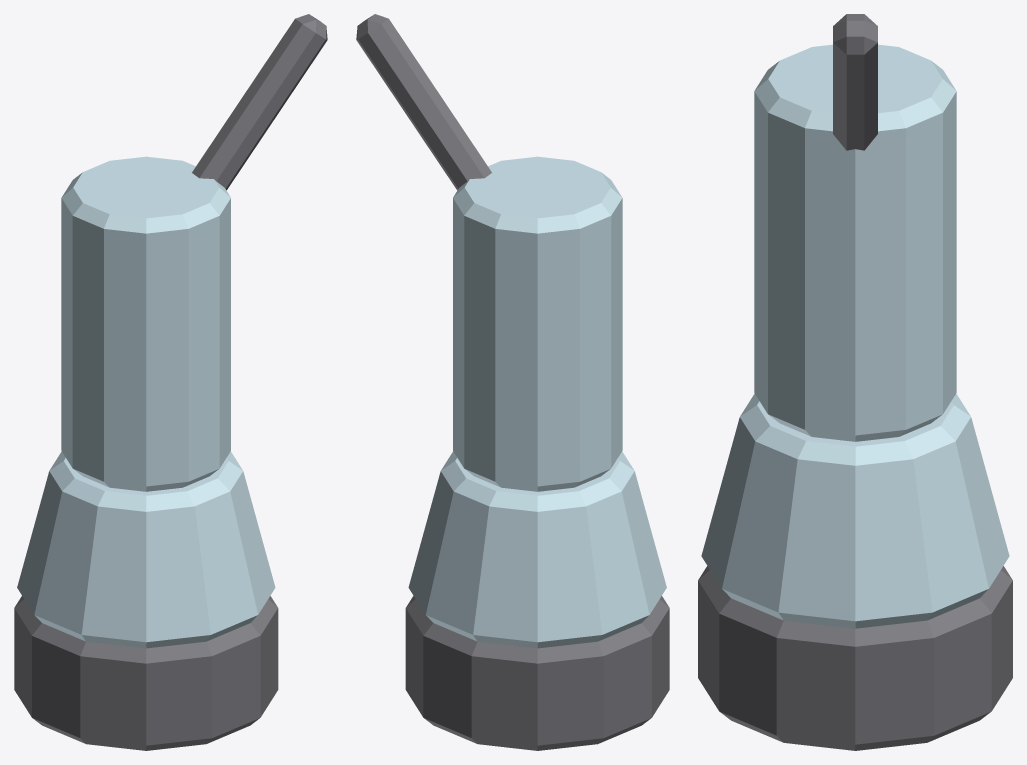
The model's file is SM_Oil_Lamp.fbx.
3 renders of one model, left to right at view 1: azimuth 30°, elevation 25°; view 2: azimuth 150°, elevation 25°; view 3: azimuth 270°, elevation 25°, orthographic. The views are drawn at different scales.
Parts seen in each view (by area): view 1: Oil_Lamp; view 2: Oil_Lamp; view 3: Oil_Lamp.
Boxes of the visible parts, left/top/right/bottom form: Oil_Lamp: left=14, top=14, right=327, bottom=750; Oil_Lamp: left=356, top=14, right=669, bottom=750; Oil_Lamp: left=698, top=14, right=1012, bottom=750.
Bounding box in the file's own units: 17.88 × 37.62 × 14.
